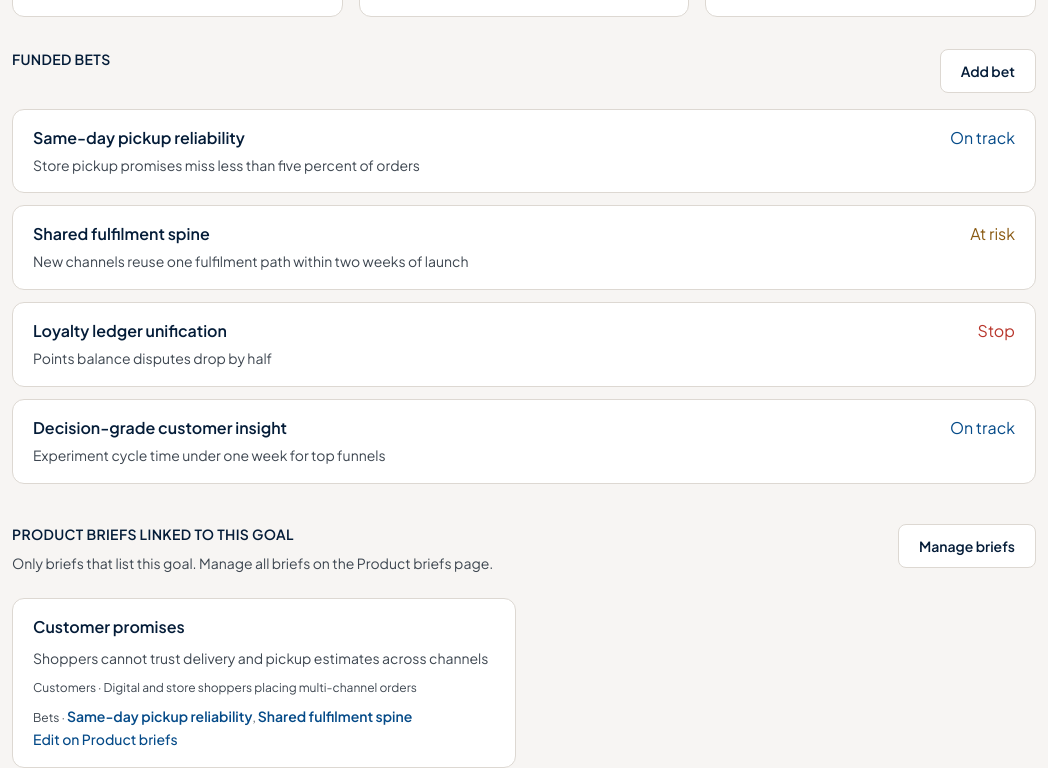
Test case: GoalsPage › selects a bet from a product brief link without opening the edit modal
(page scrolled)
Click the button with test id "goals-product-bet" showing "Same-day pickup reliability".
click(160, 716)  # box [67,706,252,726]
(page scrolled)
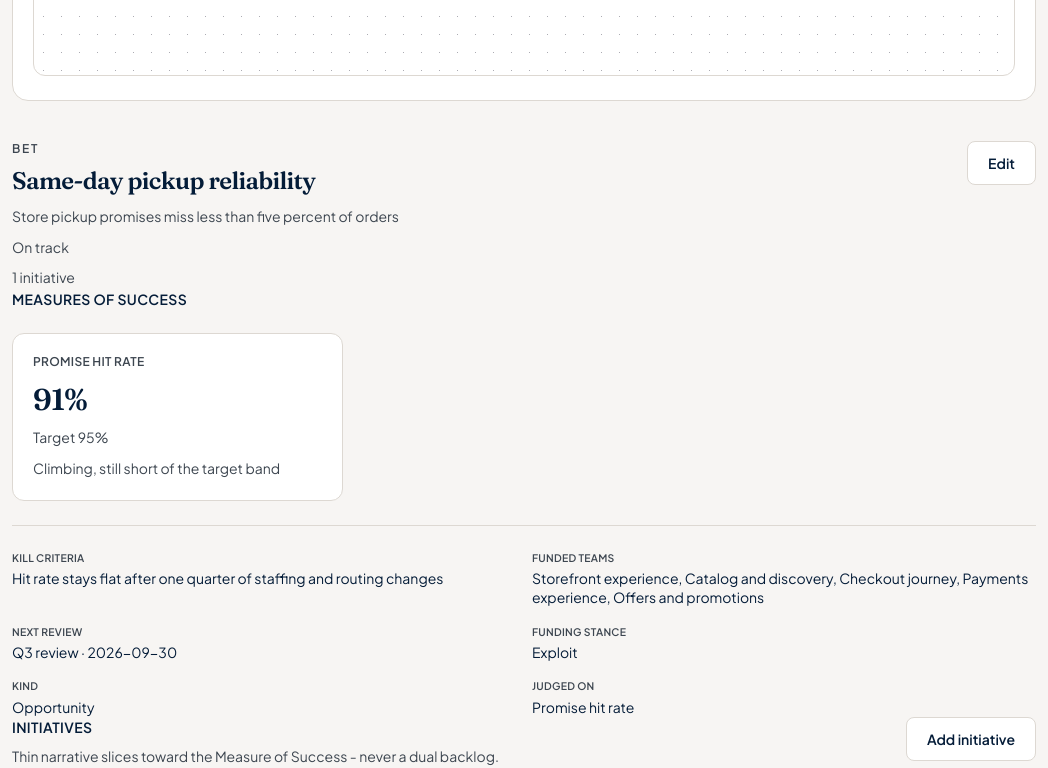
Check: the element with test id "goals-bet-detail" is shown
